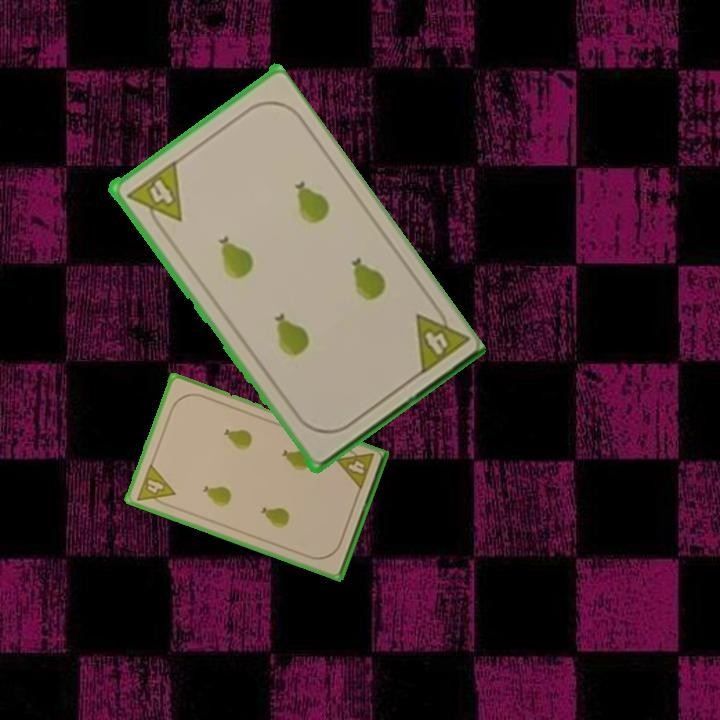4p: (410, 298, 470, 379), (122, 158, 185, 235), (133, 460, 178, 511), (333, 443, 377, 493)
